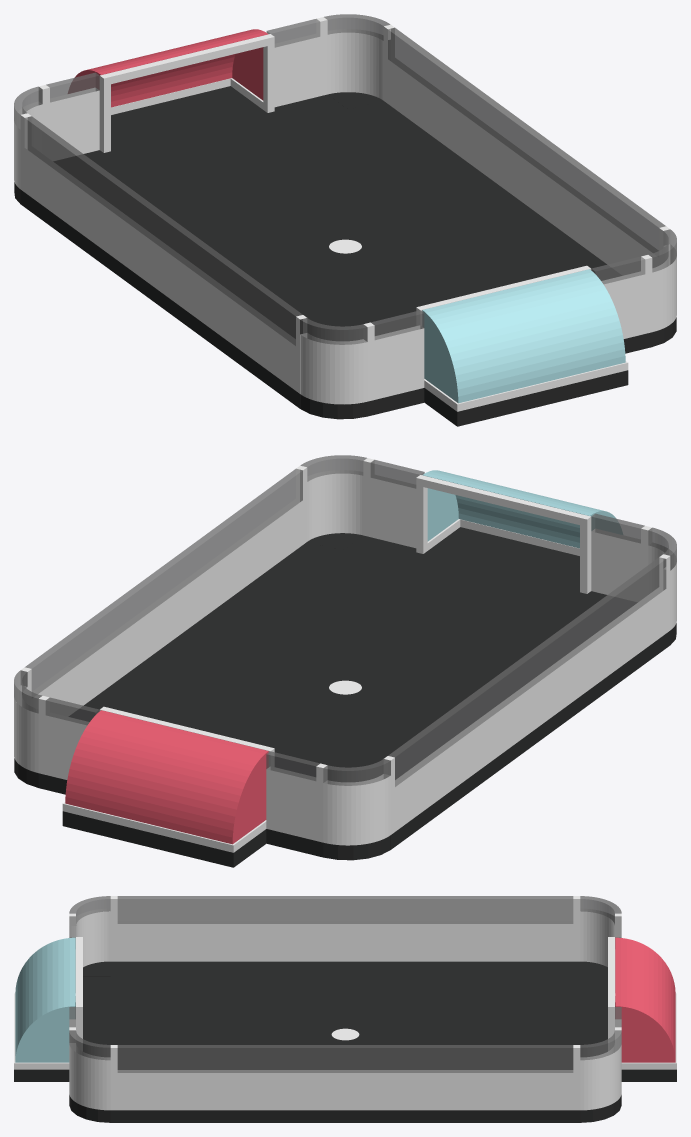
The model's file is arena.glb.
3 renders of one model, top to bottom at view 1: azimuth 30°, elevation 25°; view 2: azimuth 150°, elevation 25°; view 3: azimuth 270°, elevation 25°, orthographic. The views are drawn at different scales.
Visible parts, largest first — view 1: obj_0; view 2: obj_0; view 3: obj_0.
Boxes of the visible parts, bbox=[...] form: obj_0: bbox=[14, 14, 676, 426]; obj_0: bbox=[14, 455, 676, 867]; obj_0: bbox=[14, 896, 676, 1122].
Bounding box in the file's own units: 26 × 6 × 48.
